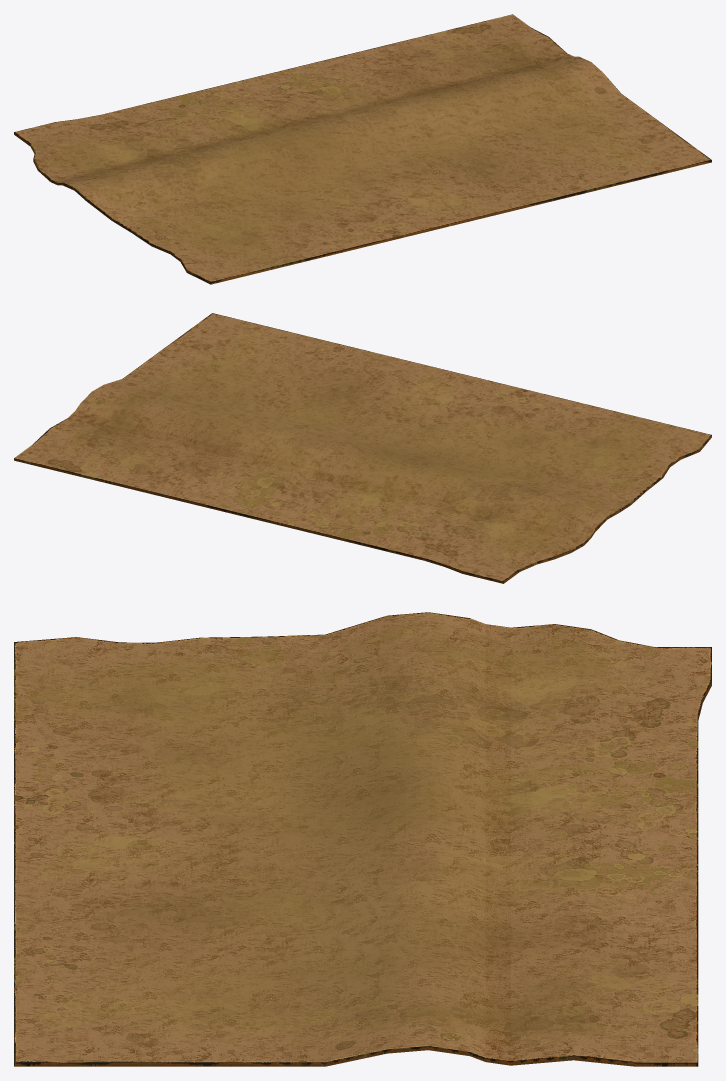
File: PROP_038_Rug_A.fbx
The picture shows the model from 3 angles, top to bottom: view 1: azimuth 30°, elevation 25°; view 2: azimuth 150°, elevation 25°; view 3: azimuth 270°, elevation 25°; orthographic projection. The views are drawn at different scales.
Visible parts, largest first — view 1: Alfombra.002; view 2: Alfombra.002; view 3: Alfombra.002.
Boxes of the visible parts, x1,y1,x2,y2 form: Alfombra.002: [14, 14, 711, 284]; Alfombra.002: [14, 313, 711, 583]; Alfombra.002: [14, 612, 711, 1066].
Size of the model in its own units: 1.5 by 0.0336 by 1.02.
1 material, 1 textured.
